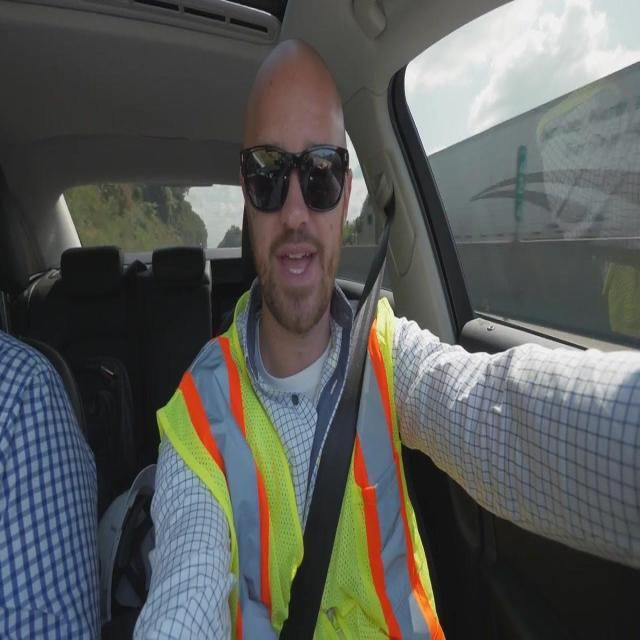Vest: (156, 290, 446, 639)
